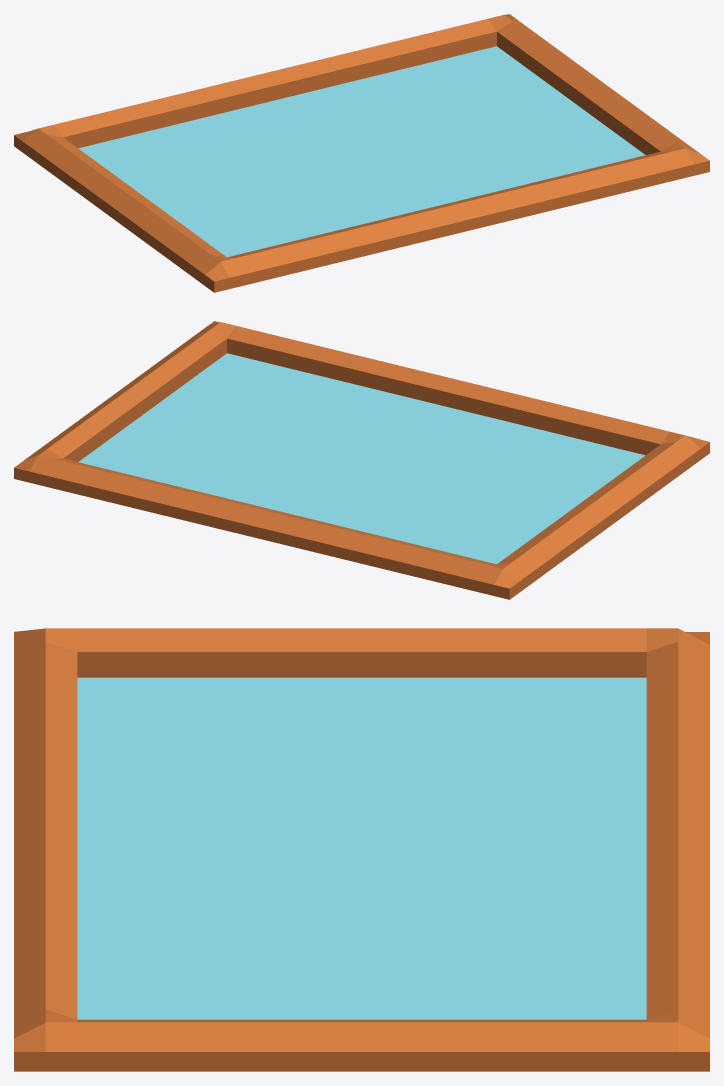
The model's file is portraitAzul.fbx.
The picture shows the model from 3 angles, top to bottom: view 1: azimuth 30°, elevation 25°; view 2: azimuth 150°, elevation 25°; view 3: azimuth 270°, elevation 25°; orthographic projection. The views are drawn at different scales.
Parts seen in each view (by area): view 1: Cube; view 2: Cube; view 3: Cube.
Part boxes in pixels (x1,y1,x2,y2): Cube: [14, 14, 709, 292]; Cube: [14, 321, 709, 599]; Cube: [14, 628, 709, 1071].
Bounding box in the file's own units: 500 × 20 × 350.
1 material, 1 textured.
